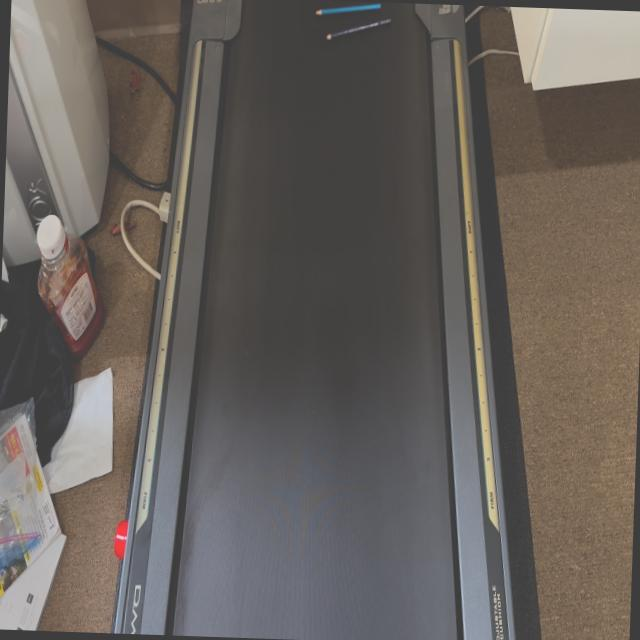Trash: (305, 0, 404, 52)
